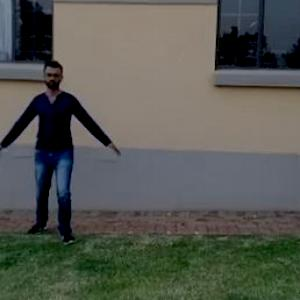land: (1, 62, 111, 232)
